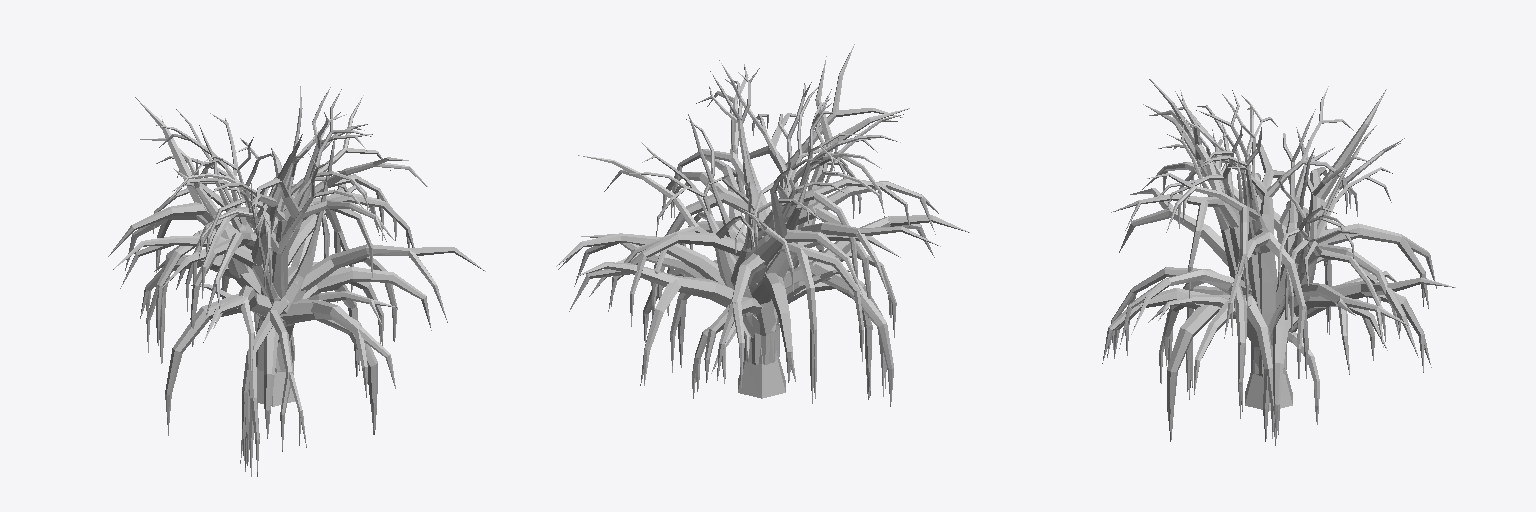
The model's file is tree12.obj.
3 views of the same model, side by side, from view 1: azimuth 30°, elevation 25°; view 2: azimuth 150°, elevation 25°; view 3: azimuth 270°, elevation 25° (orthographic).
Parts seen in each view (by area): view 1: tree; view 2: tree; view 3: tree.
Part boxes in pixels (x1,y1,x2,y2): tree: (108,86,485,476); tree: (556,44,969,406); tree: (1102,79,1455,445).
Bounding box in the file's own units: 8.58 × 8.83 × 8.31.